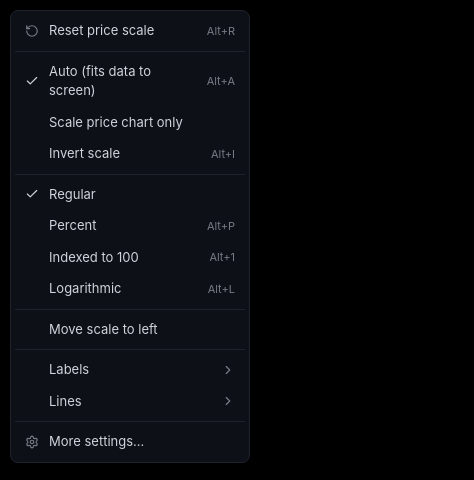
Test: PriceScaleMenu › greys a level with no data, and still lets one already on be switched off
The width and height of the screenshot is (474, 480).
Later steps or results of the test are not shown.
Click the menu item "Lines" at (130, 401), box [15, 386, 245, 417]
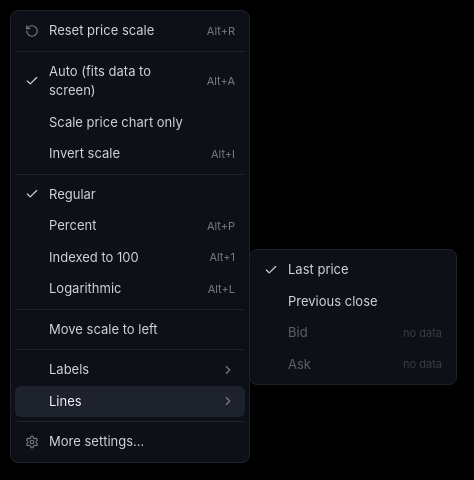
Expected: the text "no data" is shown 2 times, [403, 324, 442, 341]; [403, 356, 442, 372]
Expected: the menu item with aria-label "Bid line" is disabled, [254, 317, 452, 348]
Expected: the menu item with aria-label "Ask line" is disabled, [254, 348, 452, 380]
Click the menu item "Labels" at (130, 370), box [15, 354, 245, 386]
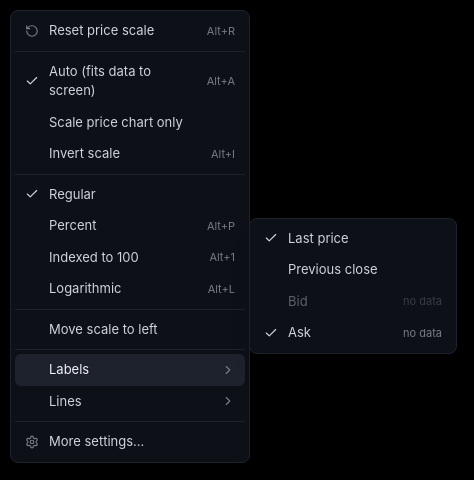
Expected: the menu item with aria-label "Ask axis tag" is enabled, [254, 317, 452, 348]
